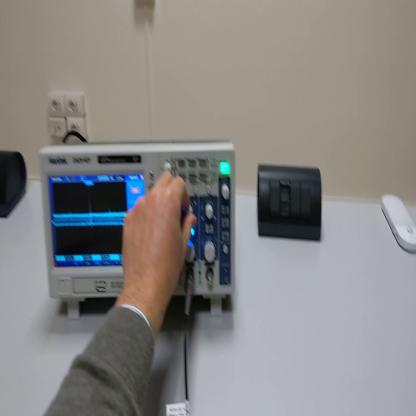hand: (120, 169, 197, 313)
oscilloscope: (28, 132, 235, 318)
socket: (1, 150, 30, 218)
